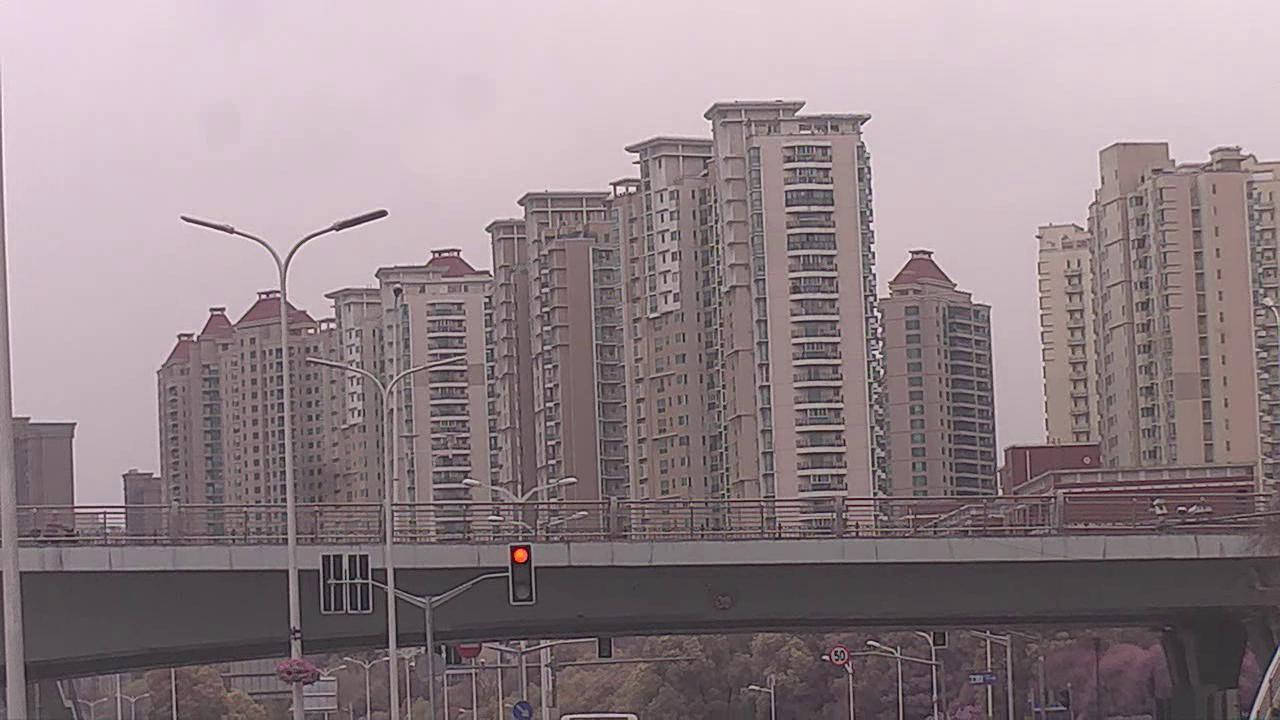traffic_light: (508, 541, 534, 603)
